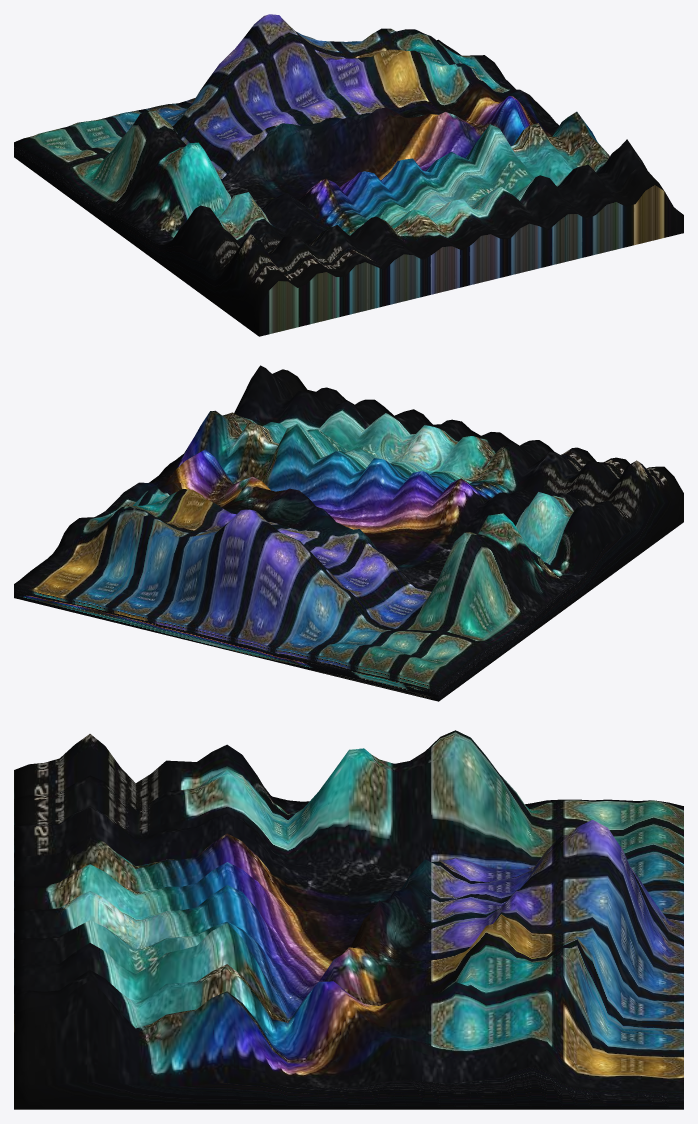
Rendered from Jade_Slips_Manuals_Set_20_EN.glb.
The picture shows the model from 3 angles, top to bottom: view 1: azimuth 30°, elevation 25°; view 2: azimuth 150°, elevation 25°; view 3: azimuth 270°, elevation 25°; orthographic projection. The views are drawn at different scales.
Parts seen in each view (by area): view 1: Jade_Slips_Manuals_Set_20_EN; view 2: Jade_Slips_Manuals_Set_20_EN; view 3: Jade_Slips_Manuals_Set_20_EN.
Part boxes in pixels (x1,y1,x2,y2): Jade_Slips_Manuals_Set_20_EN: [14, 14, 683, 336]; Jade_Slips_Manuals_Set_20_EN: [14, 365, 683, 701]; Jade_Slips_Manuals_Set_20_EN: [14, 730, 683, 1109].
Bounding box in the file's own units: 2 × 0.51 × 2.
1 material, 1 textured.
